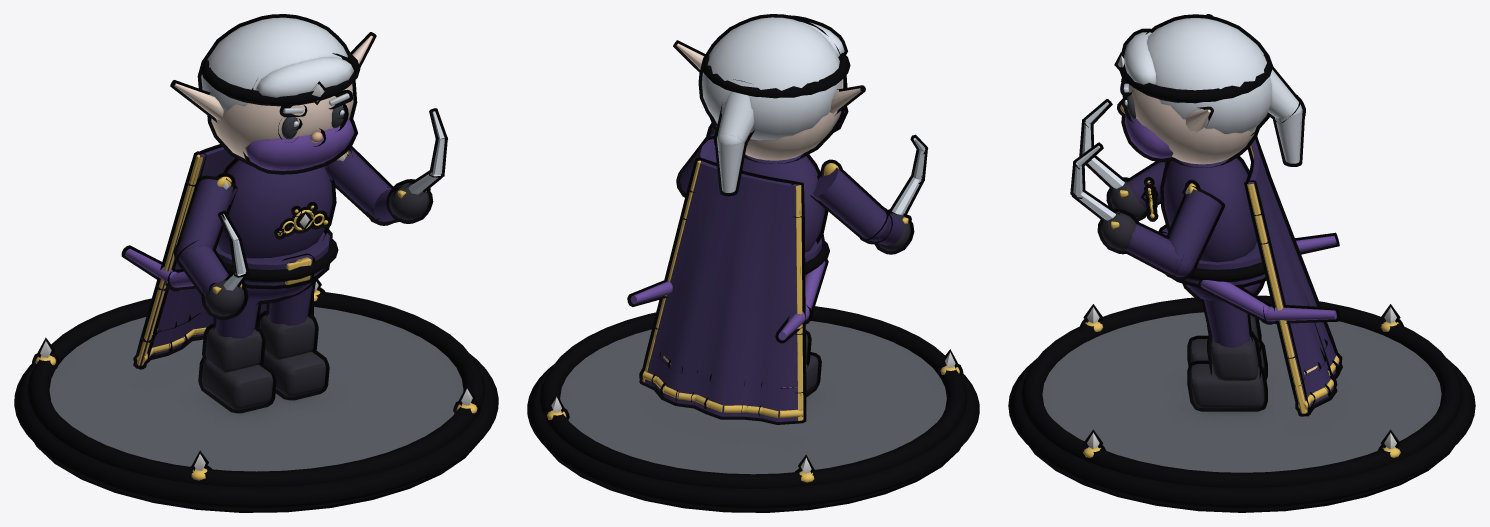
The model's file is shadow_dancer_s4.fbx.
3 renders of one model, left to right at view 1: azimuth 30°, elevation 25°; view 2: azimuth 150°, elevation 25°; view 3: azimuth 270°, elevation 25°, orthographic. The views are drawn at different scales.
Visible parts, largest first — view 1: shadow_dancer_s4; view 2: shadow_dancer_s4; view 3: shadow_dancer_s4.
Boxes of the visible parts, <box> form: shadow_dancer_s4: <box>14,14,498,512</box>; shadow_dancer_s4: <box>527,14,979,512</box>; shadow_dancer_s4: <box>1008,14,1475,512</box>.
Size of the model in its own units: 1.58 by 1.48 by 1.58.
Materials: 2 (1 with a texture image).
